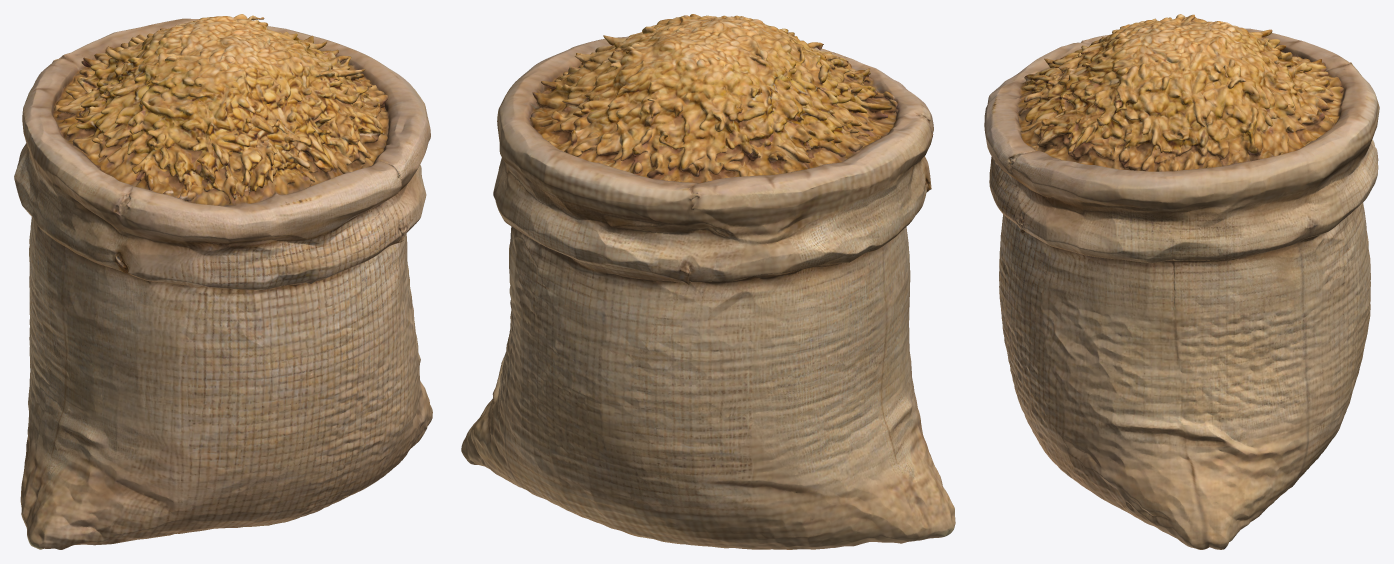
Rendered from a190_tahil_cuvali.glb.
3 renders of one model, left to right at view 1: azimuth 30°, elevation 25°; view 2: azimuth 150°, elevation 25°; view 3: azimuth 270°, elevation 25°, orthographic. The views are drawn at different scales.
Bounding box in the file's own units: 1.98 × 1.99 × 1.67.
1 material, 1 textured.
